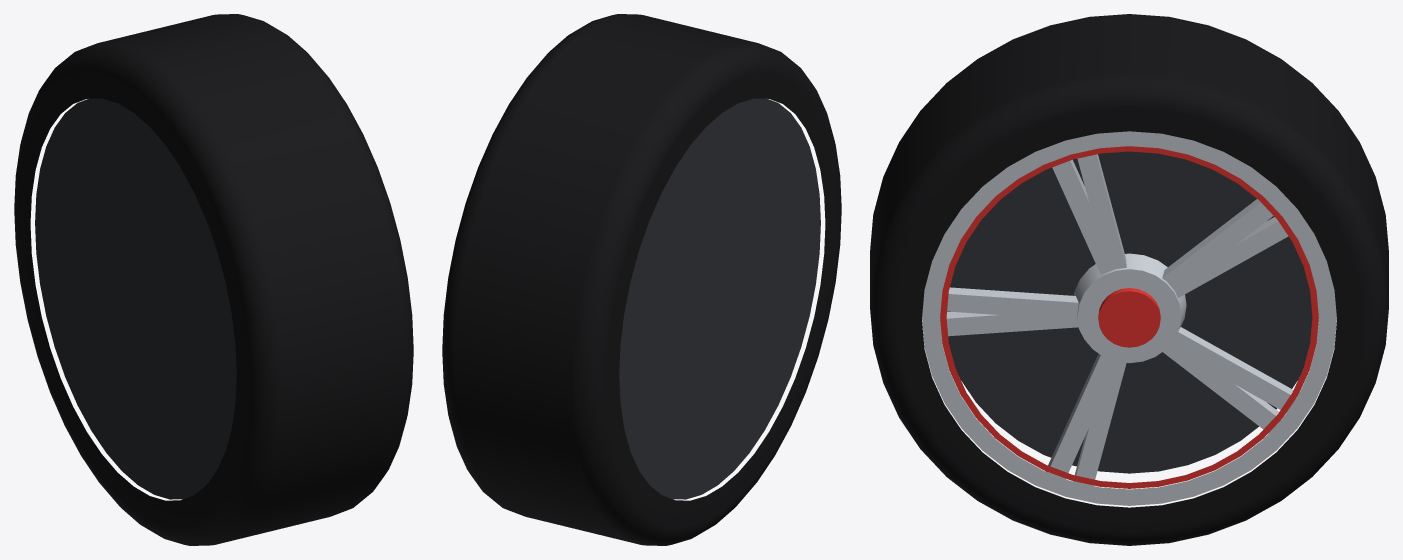
File: wheel.glb
The picture shows the model from 3 angles, left to right: view 1: azimuth 30°, elevation 25°; view 2: azimuth 150°, elevation 25°; view 3: azimuth 270°, elevation 25°; orthographic projection.
Visible parts, largest first — view 1: wheel; view 2: wheel; view 3: wheel.
Part boxes in pixels (x1=…): wheel: x1=14, y1=14, x2=413, y2=545; wheel: x1=442, y1=14, x2=841, y2=545; wheel: x1=870, y1=14, x2=1388, y2=545.
Size of the model in its own units: 0.72 by 2 by 2.
Materials: 1 (1 with a texture image).
